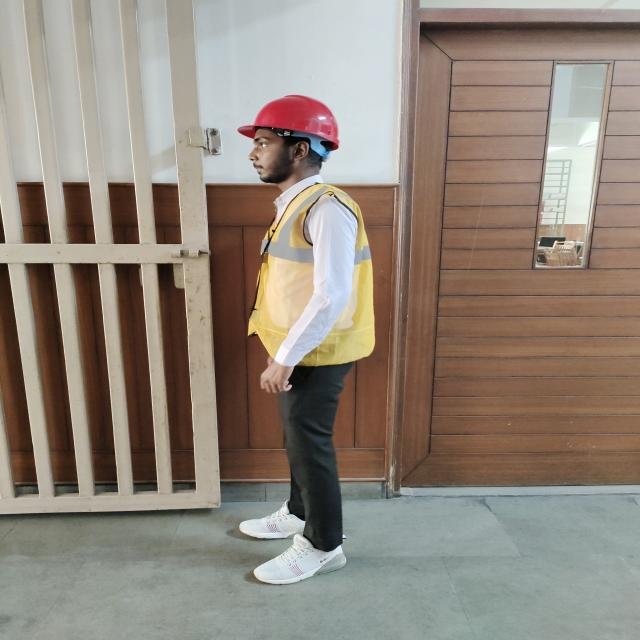safe: (238, 95, 376, 581)
